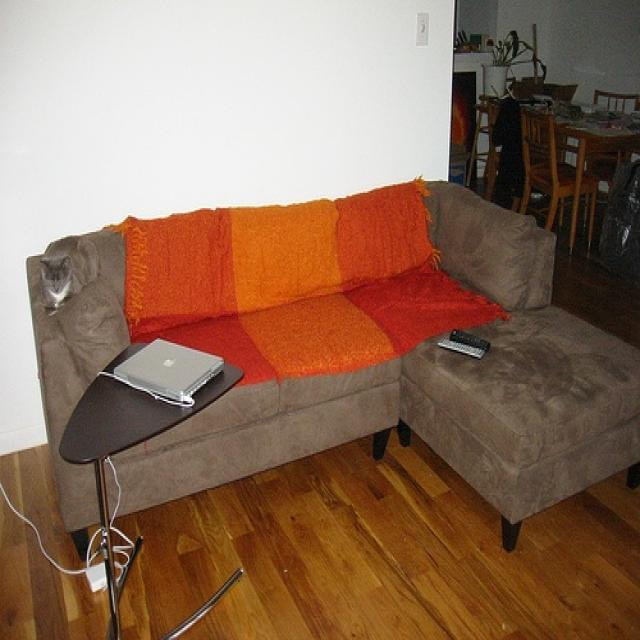cat: (40, 252, 73, 318)
chair: (520, 104, 596, 260), (580, 87, 639, 239)
pottedplant: (481, 29, 547, 99)
sofa: (23, 177, 639, 565)
